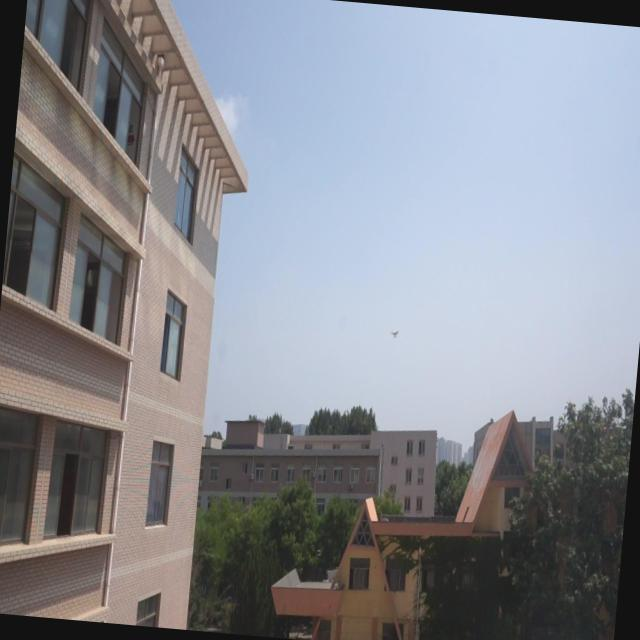drone: (387, 325, 403, 343)
